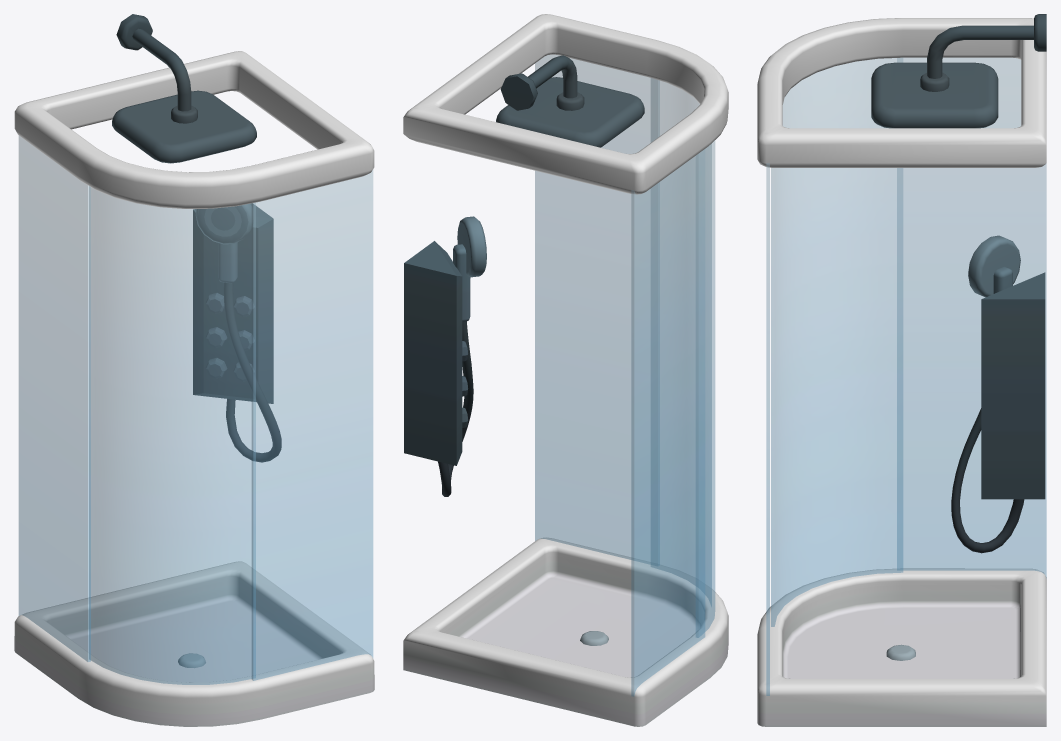
The model's file is Shower_03.glb.
3 renders of one model, left to right at view 1: azimuth 30°, elevation 25°; view 2: azimuth 150°, elevation 25°; view 3: azimuth 270°, elevation 25°, orthographic. The views are drawn at different scales.
Parts seen in each view (by area): view 1: Shower_03; view 2: Shower_03; view 3: Shower_03.
Boxes of the visible parts, left/top/right/bottom form: Shower_03: left=14, top=14, right=374, bottom=726; Shower_03: left=403, top=14, right=728, bottom=726; Shower_03: left=757, top=14, right=1046, bottom=726.
Bounding box in the file's own units: 0.8 × 2 × 0.8.
Materials: 2 (2 with a texture image).
